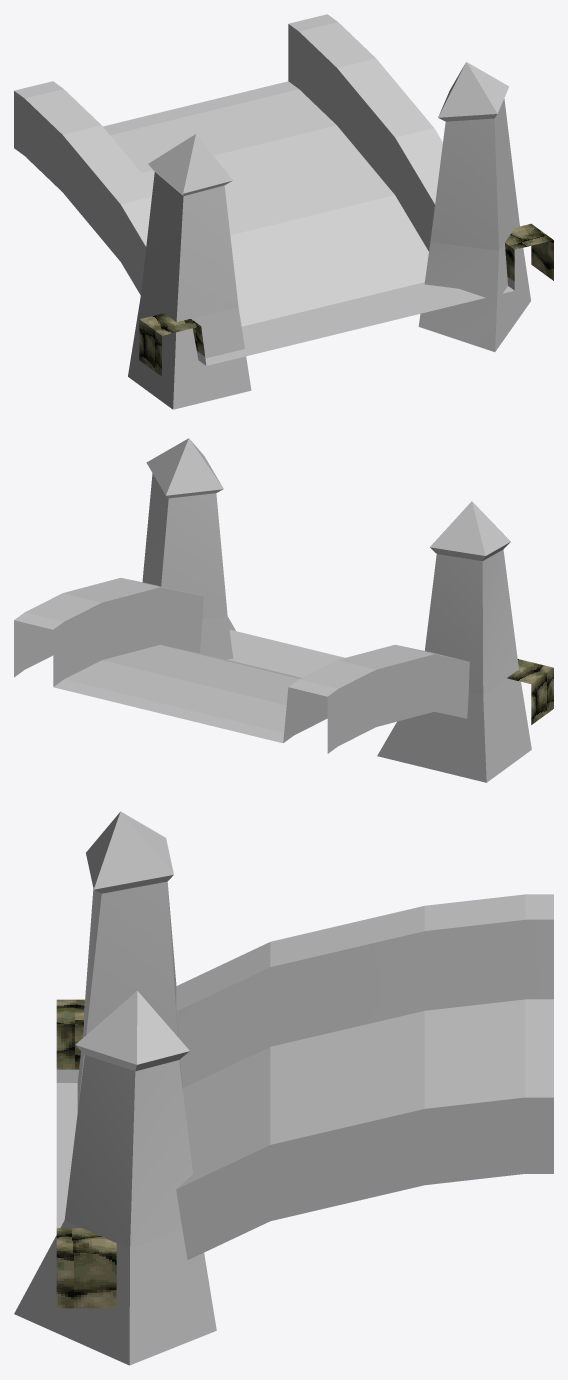
The picture shows the model from 3 angles, top to bottom: view 1: azimuth 30°, elevation 25°; view 2: azimuth 150°, elevation 25°; view 3: azimuth 270°, elevation 25°; orthographic projection. The views are drawn at different scales.
Visible parts, largest first — view 1: tv_t3b0e0v0; view 2: tv_t3b0e0v0; view 3: tv_t3b0e0v0.
Part boxes in pixels (<box>): tv_t3b0e0v0: <box>14,14,553,409</box>; tv_t3b0e0v0: <box>14,438,553,782</box>; tv_t3b0e0v0: <box>14,811,553,1365</box>.
Size of what is drawn, in the model's own units: 10.12 by 8.99 by 6.15.
